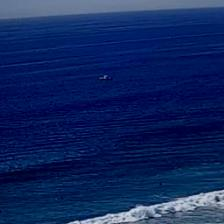surfer: (212, 159, 221, 163), (0, 210, 3, 214), (60, 197, 64, 200), (159, 182, 162, 186)
